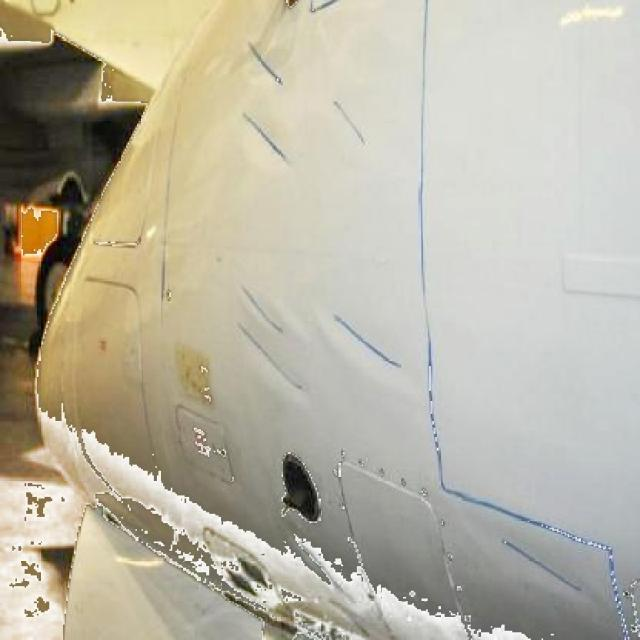dent: (234, 261, 314, 398), (466, 519, 592, 598), (326, 296, 402, 375), (235, 103, 292, 168)
